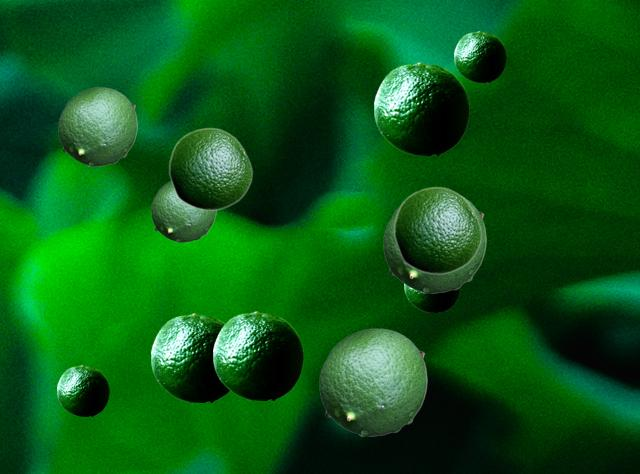calamansi: (319, 328, 426, 435), (383, 197, 485, 292), (374, 62, 468, 154), (213, 311, 302, 399), (393, 186, 481, 274), (168, 127, 252, 210), (151, 313, 229, 401), (58, 87, 136, 165), (151, 181, 215, 241), (454, 31, 505, 81), (57, 365, 108, 415), (404, 285, 459, 311)
